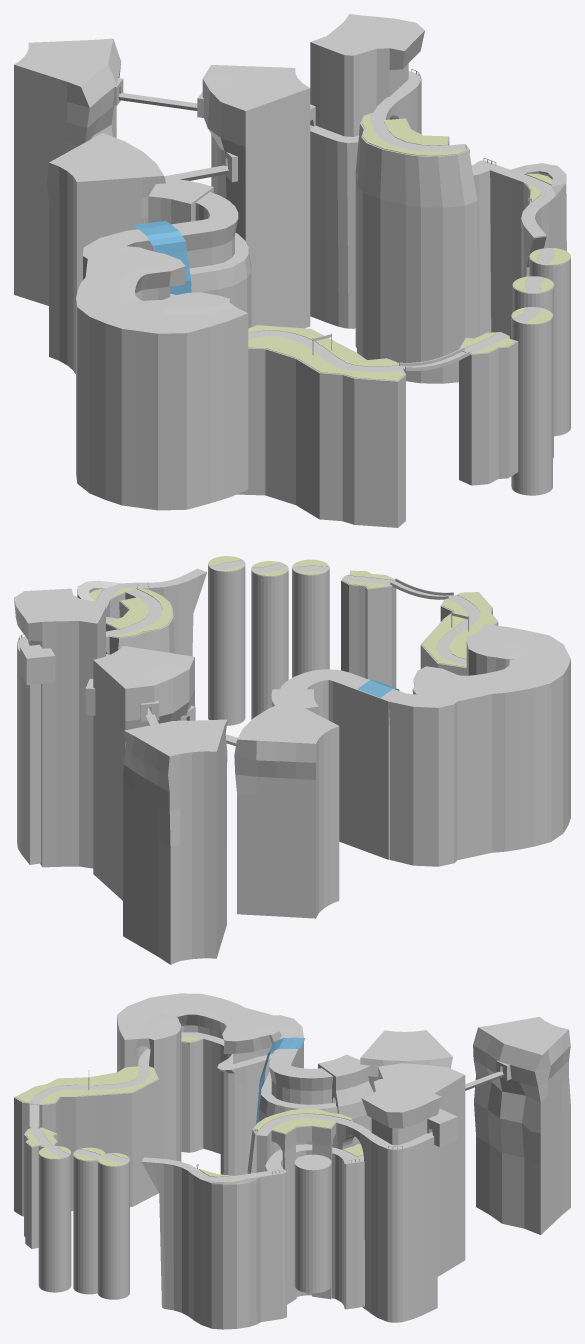
File: LD 2 - Canyon track v07.fbx
3 views of the same model, one above another, from view 1: azimuth 30°, elevation 25°; view 2: azimuth 150°, elevation 25°; view 3: azimuth 270°, elevation 25° (orthographic). The views are drawn at different scales.
Parts seen in each view (by area): view 1: Cube.010, Cube.017, Cube.007, Cube, Cube.019, Cube.004, Cube.003, Cube.021, Cube.006, Cube.008, Cylinder, Cylinder.002 (+8 smaller); view 2: Cube.010, Cube.004, Cube.003, Cube.021, Cube, Cube.006, Cube.017, Cylinder.002, Cube.008, Cylinder.001, Cylinder, Cube.019 (+6 smaller); view 3: Cube.019, Cube.010, Cube.004, Cube.017, Cube.007, Cube.006, Cube, Cylinder.009, Cylinder, Cylinder.002, Cube.021, Cylinder.001 (+9 smaller).
Part boxes in pixels (bbox=[...]): Cube.010: bbox=[76, 231, 248, 510]; Cube.017: bbox=[355, 71, 477, 383]; Cube.007: bbox=[237, 325, 405, 527]; Cube: bbox=[202, 65, 310, 328]; Cube.019: bbox=[310, 125, 566, 338]; Cube.004: bbox=[14, 38, 121, 305]; Cube.003: bbox=[47, 133, 165, 374]; Cube.021: bbox=[310, 14, 424, 328]; Cube.006: bbox=[126, 178, 251, 328]; Cube.008: bbox=[459, 332, 518, 485]; Cylinder: bbox=[511, 307, 552, 495]; Cylinder.002: bbox=[529, 248, 570, 436]; Cube.010: bbox=[389, 624, 570, 866]; Cube.004: bbox=[123, 719, 227, 964]; Cube.003: bbox=[234, 700, 339, 918]; Cube.021: bbox=[14, 588, 105, 868]; Cube: bbox=[93, 646, 194, 900]; Cube.006: bbox=[271, 669, 405, 859]; Cube.017: bbox=[17, 588, 175, 864]; Cylinder.002: bbox=[208, 560, 245, 725]; Cube.008: bbox=[341, 570, 396, 687]; Cylinder.001: bbox=[251, 562, 288, 719]; Cylinder: bbox=[292, 562, 329, 677]; Cube.019: bbox=[77, 568, 206, 656]; Cube.019: bbox=[141, 1144, 364, 1329]; Cube.010: bbox=[117, 993, 303, 1175]; Cube.004: bbox=[473, 1017, 570, 1234]; Cube.017: bbox=[247, 1108, 437, 1322]; Cube.007: bbox=[14, 1066, 158, 1216]; Cube.006: bbox=[259, 1035, 373, 1143]; Cube: bbox=[378, 1063, 465, 1276]; Cylinder.009: bbox=[294, 1154, 331, 1293]; Cylinder: bbox=[38, 1145, 71, 1292]; Cylinder.002: bbox=[97, 1153, 129, 1299]; Cube.021: bbox=[361, 1075, 441, 1145]; Cylinder.001: bbox=[73, 1149, 105, 1294].
Size of what is drawn, in the model's own units: 9331 by 4866 by 11439.
